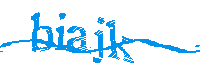a: (67, 24, 90, 54)
b: (31, 12, 54, 54)
i: (56, 11, 67, 50)
j: (93, 17, 105, 64)
k: (106, 20, 139, 65)
